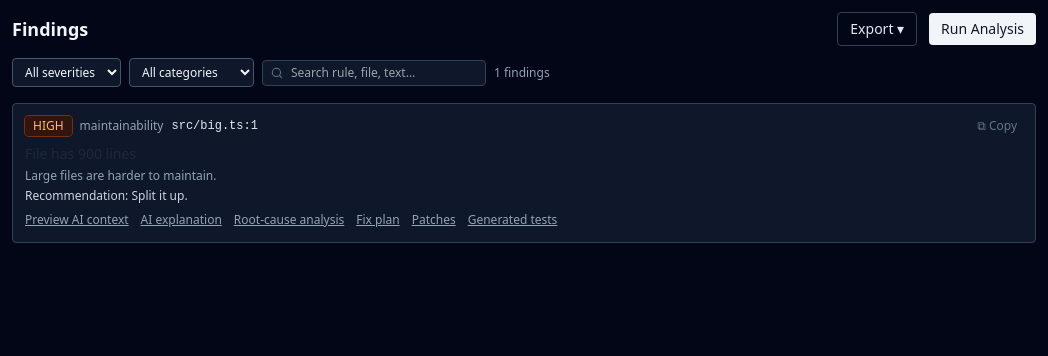
Scenario: FindingsPage › generates and displays an AI explanation when a provider is enabled
Expected: the text "src/big.ts:1" is shown, [172, 118, 258, 134]
Click the button "AI explanation".
click(181, 220)  # box [141, 212, 222, 228]
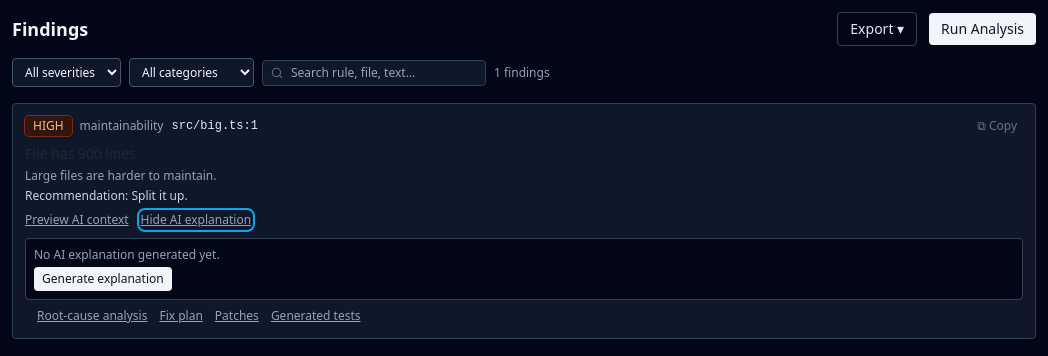
Expected: the text "No AI explanation generated yet." is shown, [34, 246, 220, 263]
Click the button "Generate explanation".
click(103, 279)  # box [34, 267, 172, 291]
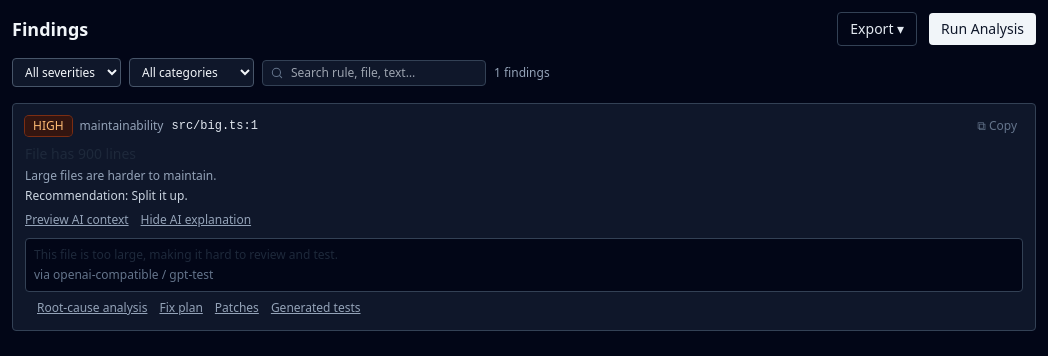
Expected: the text "This file is too large, making it hard to review and test." is shown, [34, 246, 338, 263]
Expected: the text "via openai-compatible / gpt-test" is shown, [34, 266, 214, 283]
